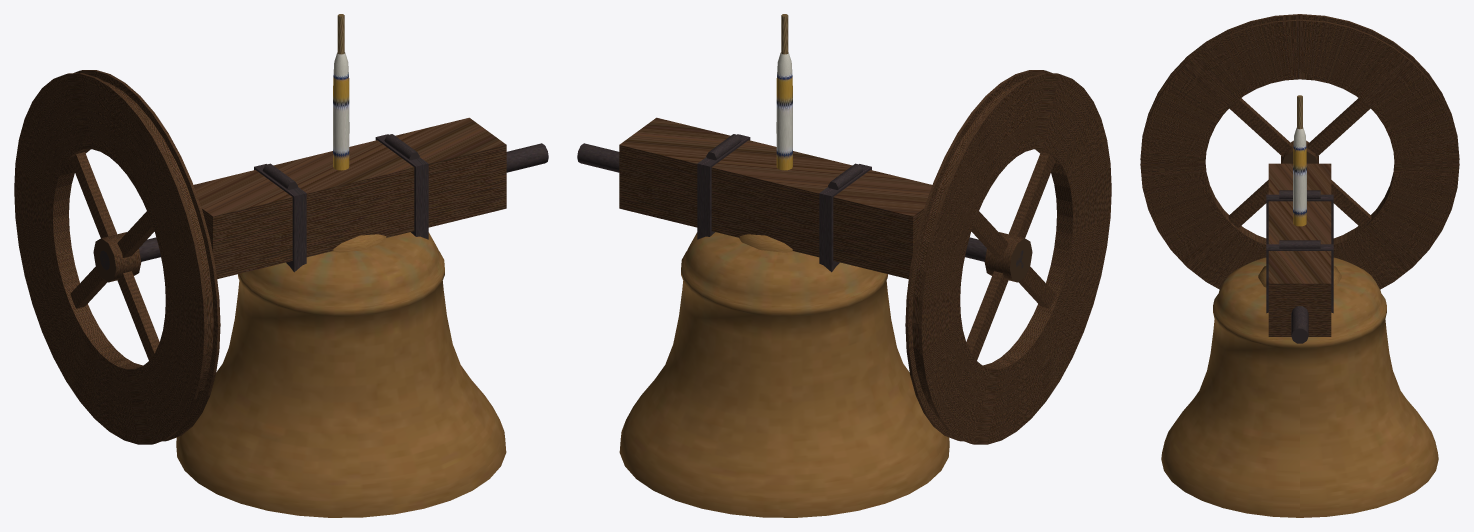
The model's file is bells.glb.
3 views of the same model, side by side, from view 1: azimuth 30°, elevation 25°; view 2: azimuth 150°, elevation 25°; view 3: azimuth 270°, elevation 25° (orthographic). The views are drawn at different scales.
Visible parts, largest first — view 1: bell_tenor, bell_second, bell_treble, bell_third, sally; view 2: bell_tenor, bell_second, bell_treble, bell_third, sally; view 3: bell_tenor, bell_second, bell_third, bell_treble, sally.
Part boxes in pixels (<box>): bell_tenor: <box>14,70,506,517</box>; bell_second: <box>33,111,548,406</box>; bell_treble: <box>41,127,176,391</box>; bell_third: <box>24,94,193,424</box>; sally: <box>333,52,349,170</box>; bell_tenor: <box>619,70,1111,517</box>; bell_second: <box>577,111,1091,406</box>; bell_treble: <box>950,127,1084,388</box>; bell_third: <box>932,94,1101,424</box>; sally: <box>776,52,792,170</box>; bell_tenor: <box>1140,14,1459,517</box>; bell_second: <box>1173,50,1426,343</box>; bell_third: <box>1158,36,1441,274</box>; bell_treble: <box>1186,62,1412,259</box>; sally: <box>1293,127,1306,226</box>.
Size of the model in its own units: 2.45 by 2.31 by 1.84.
1 material, 1 textured.
